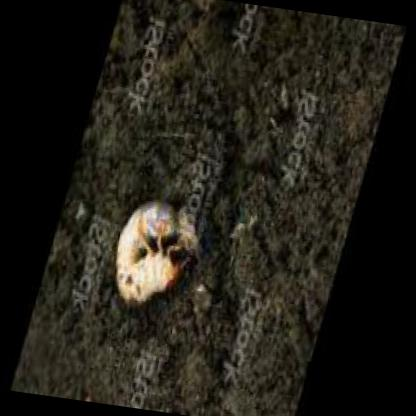root grubs: (116, 202, 199, 307)
